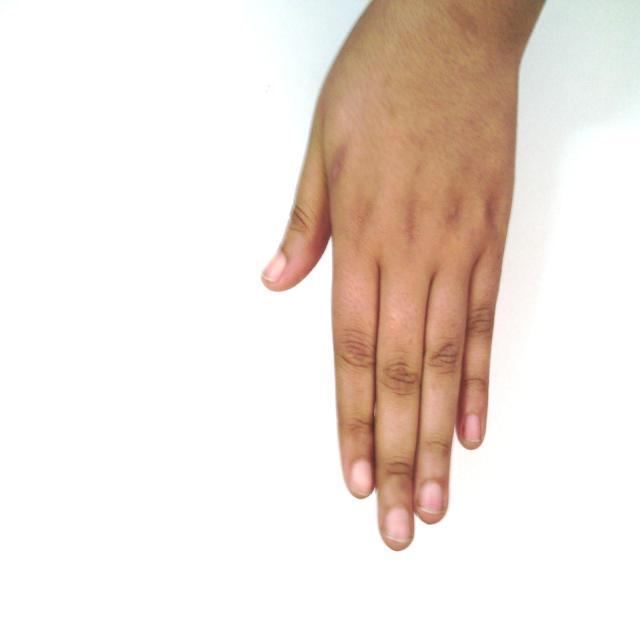Fingernail: (384, 507, 411, 542), (351, 458, 372, 496), (418, 482, 443, 513), (262, 253, 286, 282), (464, 414, 481, 443)
